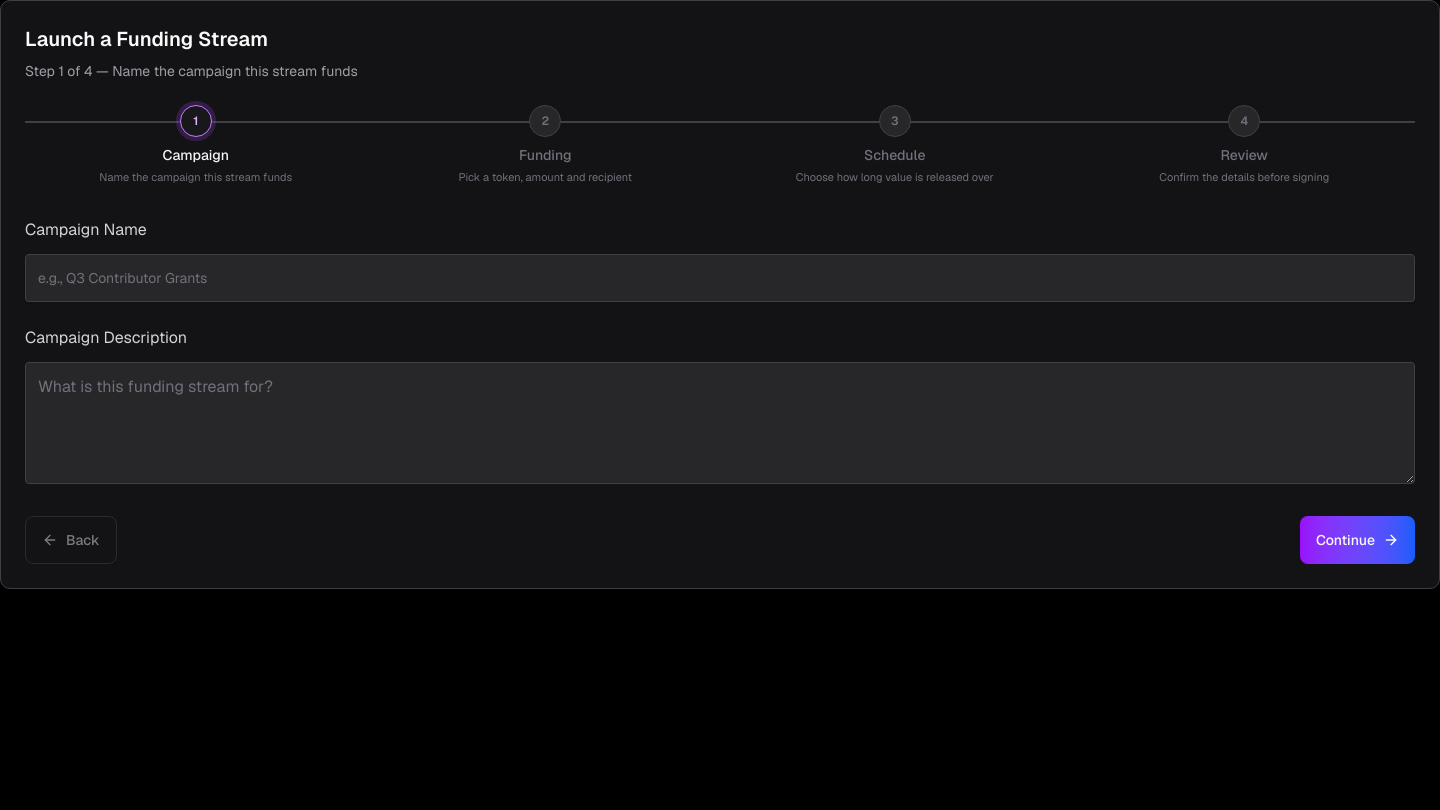
Test case: StreamWizard › advances to the funding step once the campaign details are valid
The width and height of the screenshot is (1440, 810).
Type "Q3 Contributor Grants" into the field labelled "Campaign Name" at (720, 278), box [25, 254, 1415, 302]
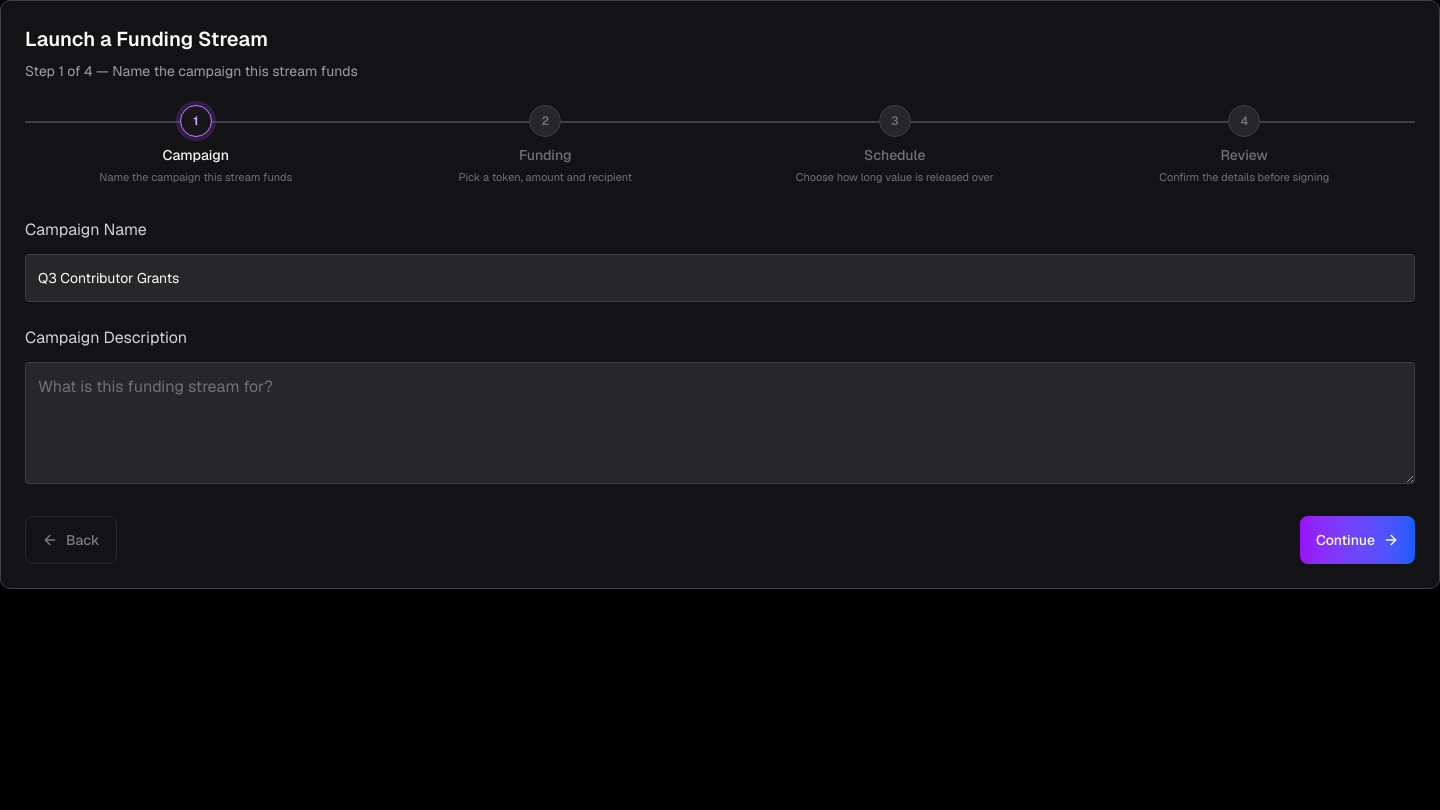
Click the button "Continue" at (1357, 540), box [1300, 516, 1415, 564]
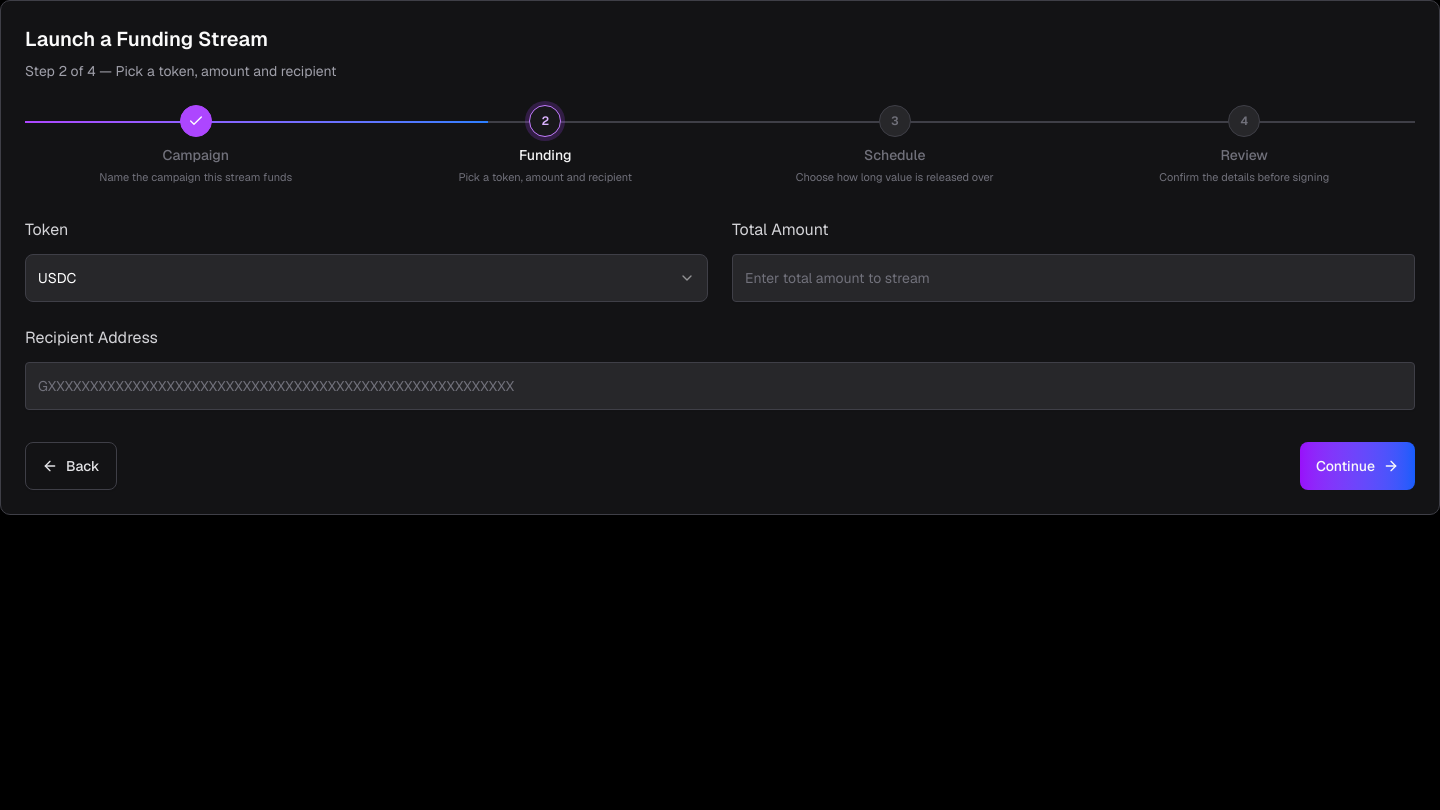
expect the text "Step 2 of 4 — Pick a token, amount and recipient" is shown: met, box [25, 62, 336, 80]
expect the field labelled "Recipient Address" is shown: met, box [25, 362, 1415, 410]
